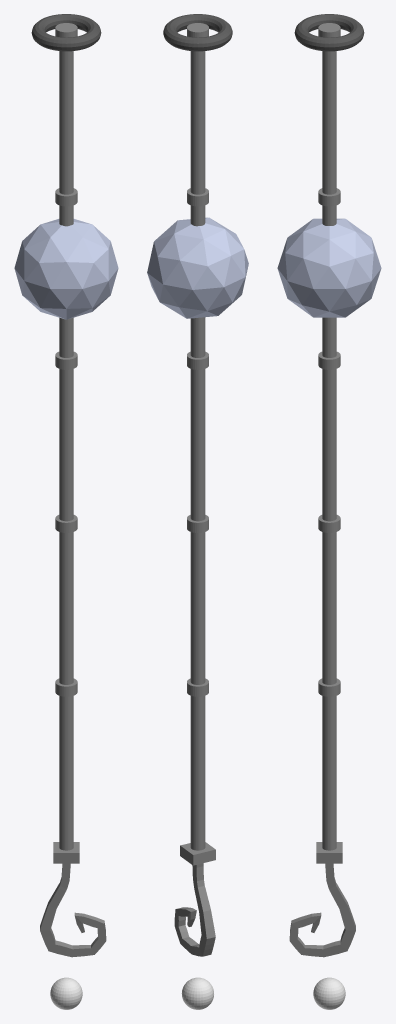
File: skyhook.fbx
3 views of the same model, side by side, from view 1: azimuth 90°, elevation 25°; view 2: azimuth 210°, elevation 25°; view 3: azimuth 270°, elevation 25° (orthographic).
Visible parts, largest first — view 1: pivot, line.003, line.004, line.006, Cube, hook, weight, line.005, Sphere, bottom joint, line.001; view 2: pivot, line.003, line.004, line.006, Cube, hook, weight, line.005, Sphere, bottom joint, line.001; view 3: pivot, line.003, line.004, line.006, Cube, hook, weight, line.005, Sphere, bottom joint, line.001.
Boxes of the visible parts, x1,y1,x2,y2 form: pivot: [14, 219, 118, 319]; line.003: [55, 515, 77, 684]; line.004: [55, 351, 77, 521]; line.006: [55, 23, 77, 194]; Cube: [59, 696, 73, 850]; hook: [40, 863, 106, 957]; weight: [31, 14, 101, 51]; line.005: [55, 188, 77, 357]; Sphere: [50, 977, 82, 1009]; bottom joint: [53, 842, 79, 863]; line.001: [55, 678, 77, 696]; pivot: [147, 217, 248, 318]; line.003: [187, 515, 208, 684]; line.004: [187, 351, 208, 521]; line.006: [187, 23, 208, 194]; Cube: [190, 696, 205, 850]; hook: [174, 863, 215, 956]; weight: [163, 14, 232, 51]; line.005: [187, 188, 208, 357]; Sphere: [181, 977, 213, 1009]; bottom joint: [180, 842, 215, 865]; line.001: [187, 678, 208, 696]; pivot: [277, 218, 381, 317]; line.003: [318, 515, 340, 684]; line.004: [318, 351, 340, 521]; line.006: [318, 23, 340, 194]; Cube: [322, 696, 336, 850]; hook: [289, 863, 355, 957]; weight: [294, 14, 364, 51]; line.005: [318, 188, 340, 357]; Sphere: [313, 977, 345, 1009]; bottom joint: [316, 842, 342, 863]; line.001: [318, 678, 340, 696].
Size of the model in its own units: 610 by 6678 by 642.
